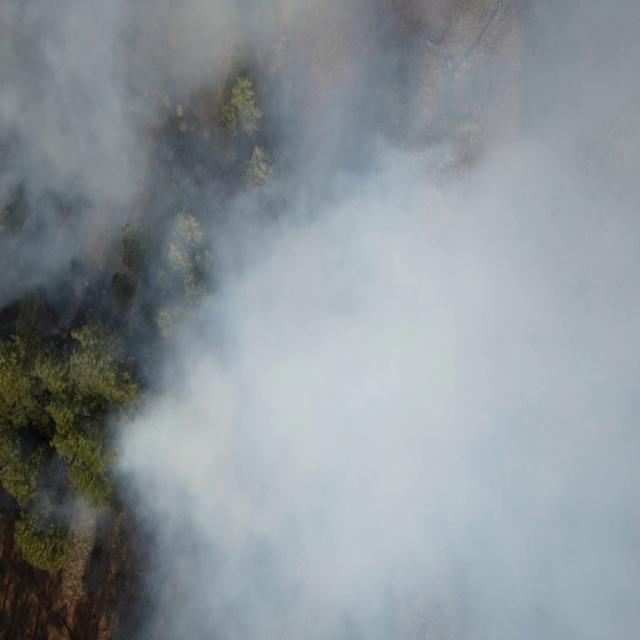fire: (59, 476, 78, 494), (51, 322, 70, 339), (36, 321, 48, 334)
smoke: (0, 0, 638, 304), (102, 304, 640, 640), (36, 452, 102, 538)
